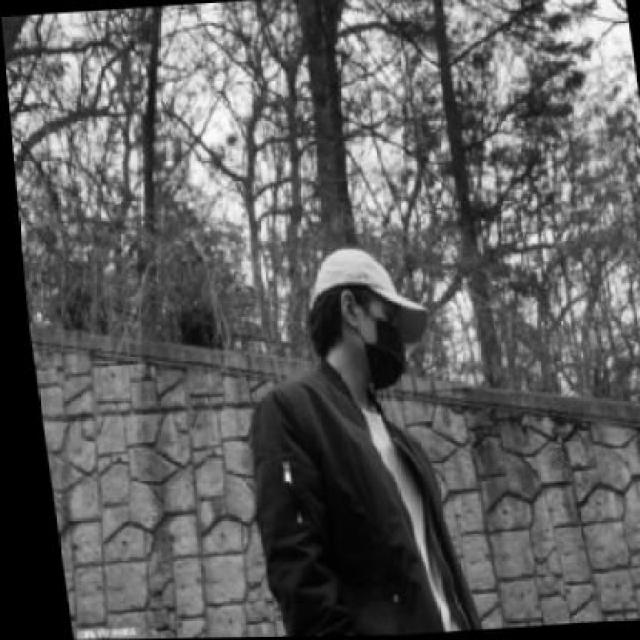hat: (292, 243, 430, 355)
